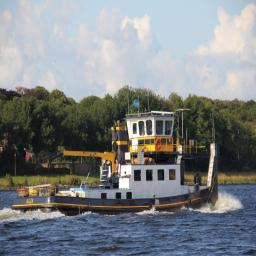tugboat: (11, 96, 222, 220)
